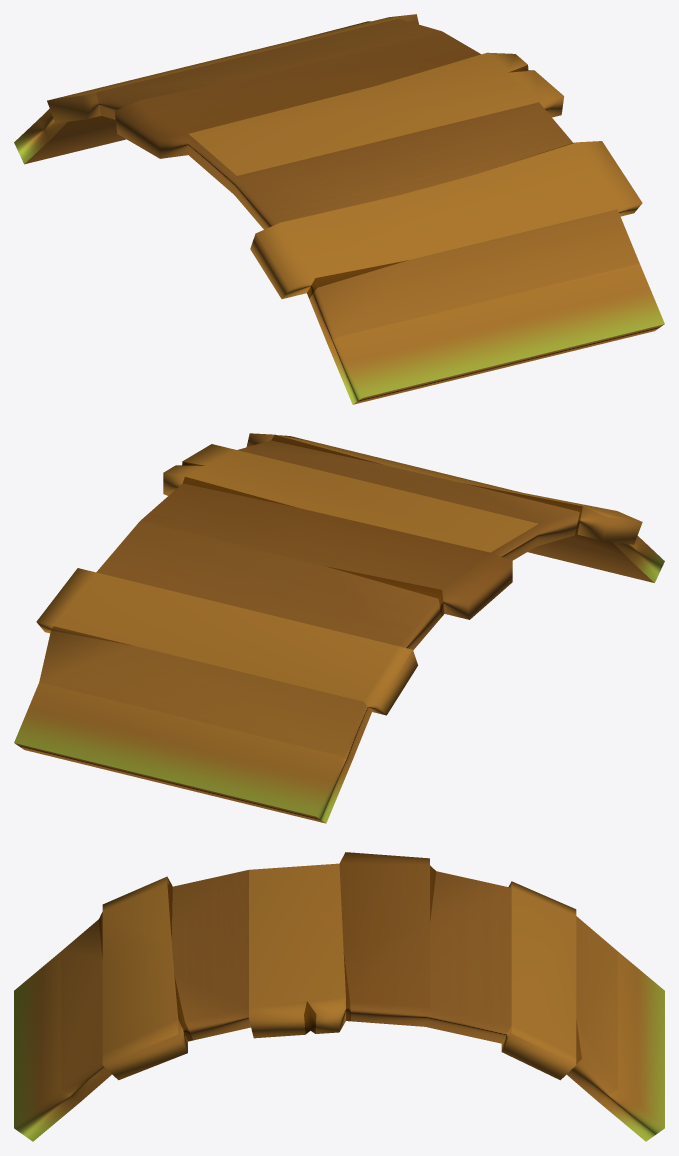
File: woodenBridge.fbx
The picture shows the model from 3 angles, top to bottom: view 1: azimuth 30°, elevation 25°; view 2: azimuth 150°, elevation 25°; view 3: azimuth 270°, elevation 25°; orthographic projection. The views are drawn at different scales.
Parts seen in each view (by area): view 1: woodenBridge; view 2: woodenBridge; view 3: woodenBridge.
Boxes of the visible parts, bbox=[...] form: woodenBridge: bbox=[14, 14, 664, 404]; woodenBridge: bbox=[14, 433, 664, 823]; woodenBridge: bbox=[14, 852, 664, 1141].
Bounding box in the file's own units: 233 × 98.45 × 400.
